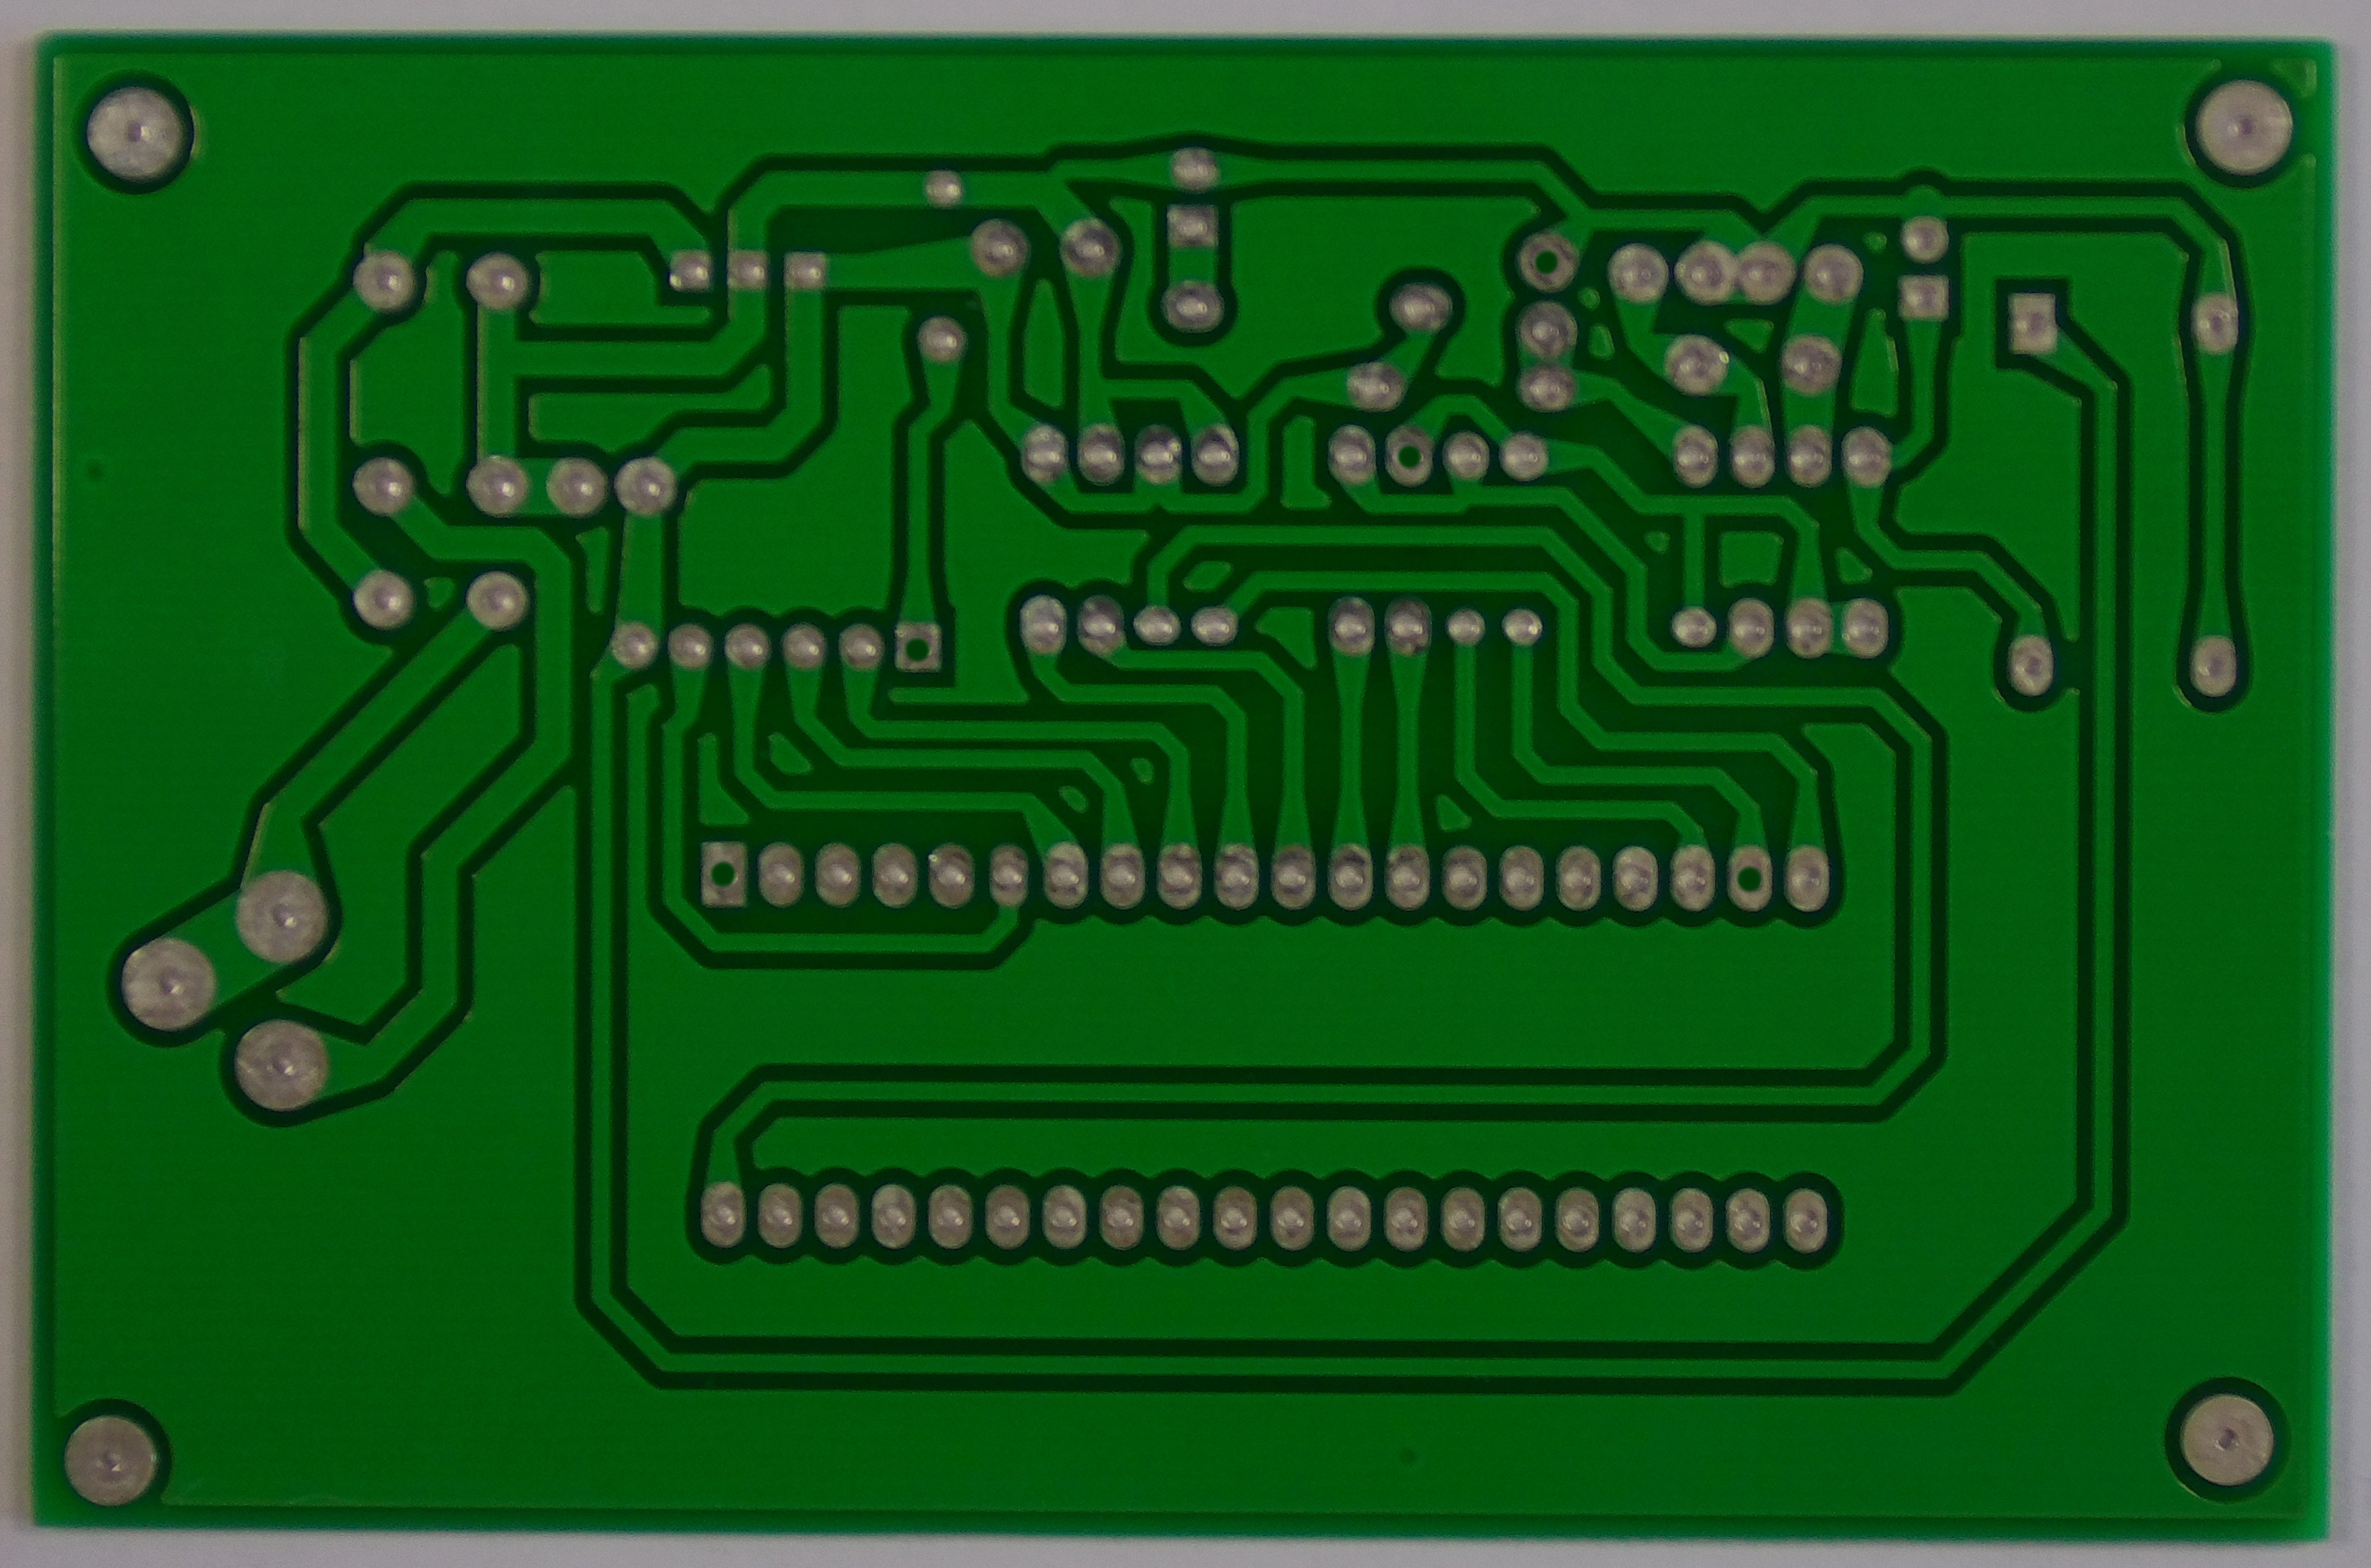missing_hole: (691, 838, 757, 912), (1719, 840, 1780, 920), (1377, 422, 1445, 492), (889, 616, 953, 677), (1515, 234, 1584, 291)
